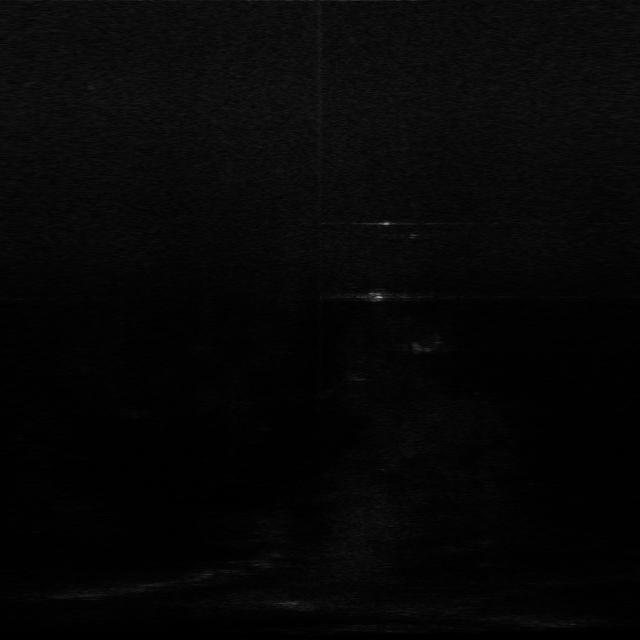rov: (362, 286, 386, 306)
